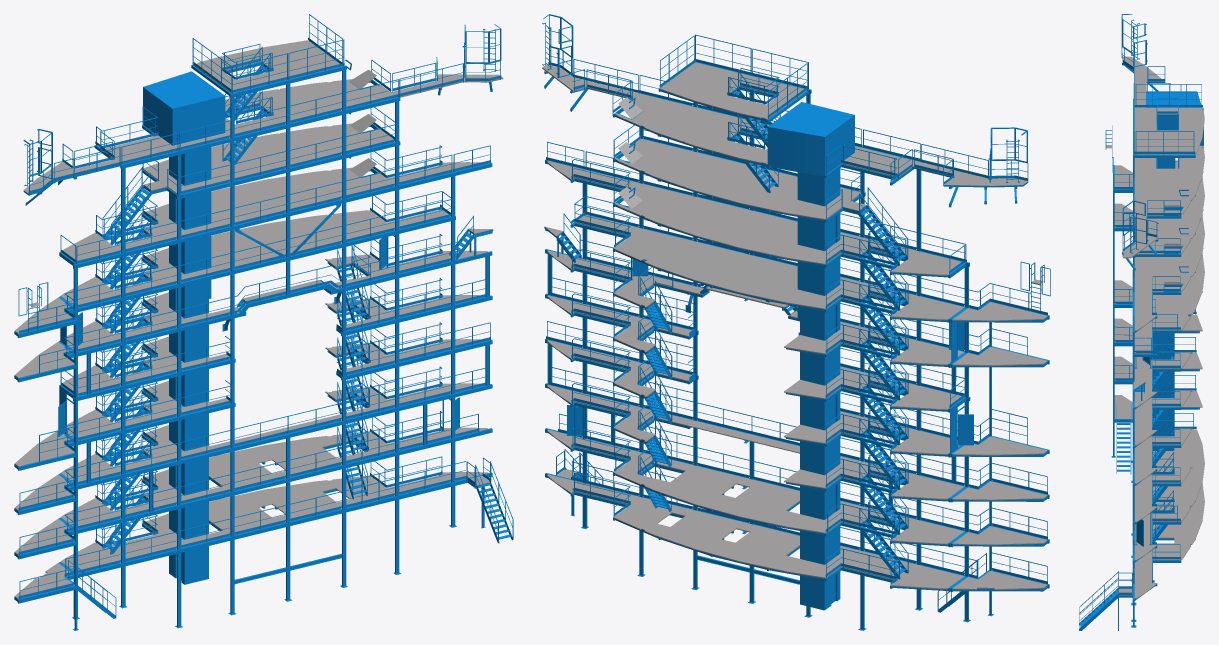
Rendered from platforms-ho.fbx.
3 views of the same model, side by side, from view 1: azimuth 30°, elevation 25°; view 2: azimuth 150°, elevation 25°; view 3: azimuth 270°, elevation 25° (orthographic). The views are drawn at different scales.
Visible parts, largest first — view 1: !!Floor, !!Beam, !!Handrail, !!Lift, !!Stears, _000002C6B32034A0_IndexedFaceSet, Add.002, !!st; view 2: !!Floor, !!Handrail, !!Beam, !!Lift, !!Stears, _000002C6B32034A0_IndexedFaceSet, Add.002, !!st; view 3: !!Floor, !!Handrail, !!Beam, !!Lift, !!Stears, Add.002, !!st, _000002C6B32034A0_IndexedFaceSet.
Boxes of the visible parts, x1=… form: !!Floor: x1=14, y1=40, x2=503, y2=599; !!Beam: x1=14, y1=41, x2=493, y2=630; !!Handrail: x1=18, y1=14, x2=501, y2=598; !!Lift: x1=143, y1=71, x2=225, y2=584; !!Stears: x1=68, y1=46, x2=513, y2=618; _000002C6B32034A0_IndexedFaceSet: x1=58, y1=235, x2=459, y2=437; Add.002: x1=23, y1=24, x2=501, y2=178; !!st: x1=18, y1=29, x2=496, y2=332; !!Floor: x1=542, y1=62, x2=1047, y2=589; !!Handrail: x1=546, y1=34, x2=1047, y2=585; !!Beam: x1=544, y1=62, x2=1049, y2=630; !!Lift: x1=767, y1=102, x2=854, y2=610; !!Stears: x1=556, y1=70, x2=986, y2=612; _000002C6B32034A0_IndexedFaceSet: x1=567, y1=258, x2=973, y2=453; Add.002: x1=543, y1=14, x2=1027, y2=182; !!st: x1=542, y1=23, x2=1050, y2=310; !!Floor: x1=1106, y1=56, x2=1204, y2=598; !!Handrail: x1=1112, y1=44, x2=1202, y2=597; !!Beam: x1=1111, y1=58, x2=1203, y2=630; !!Lift: x1=1146, y1=91, x2=1203, y2=512; !!Stears: x1=1079, y1=115, x2=1175, y2=630; Add.002: x1=1121, y1=14, x2=1148, y2=244; !!st: x1=1105, y1=19, x2=1139, y2=253; _000002C6B32034A0_IndexedFaceSet: x1=1134, y1=357, x2=1151, y2=546.
Bounding box in the file's own units: 2903 × 3090 × 746.
